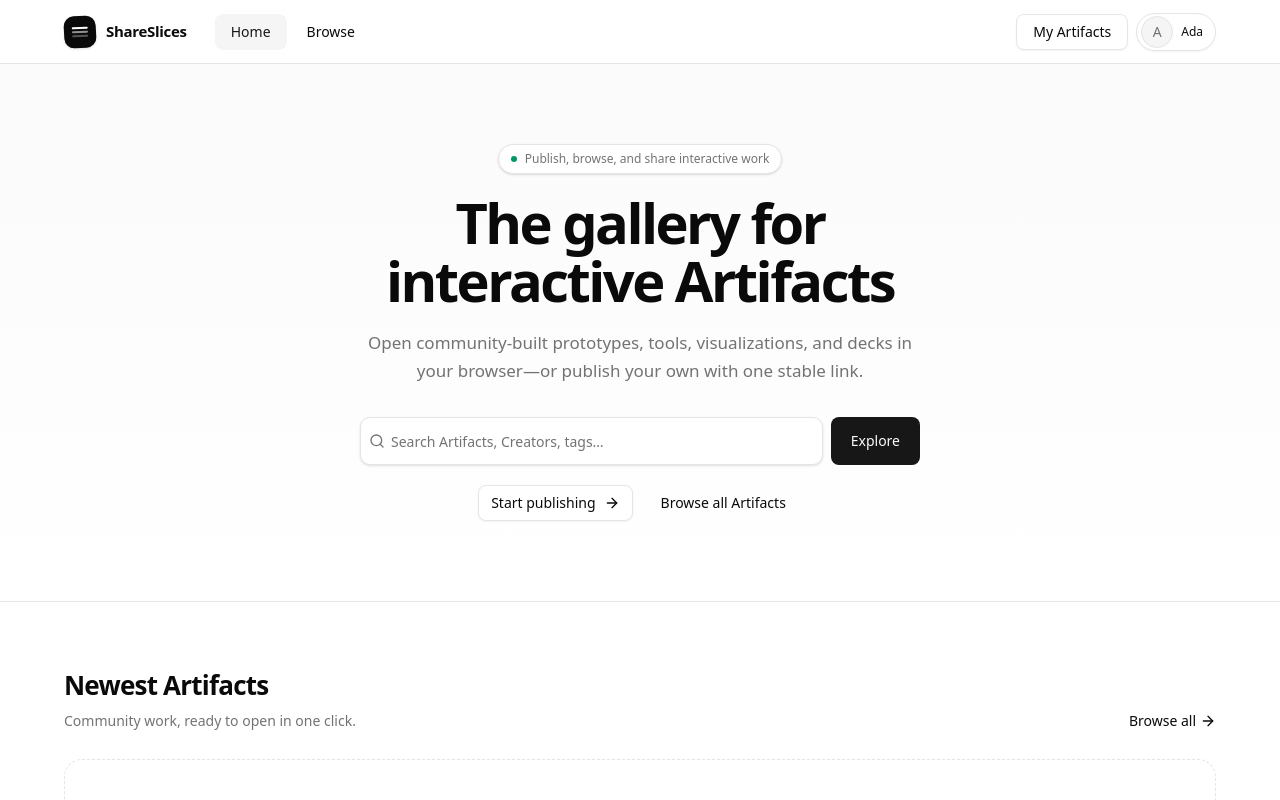
public Website routing › keeps Website in place after sign out
Click the button with aria-label "Open account menu": [1176, 32] box [1136,12,1216,50]
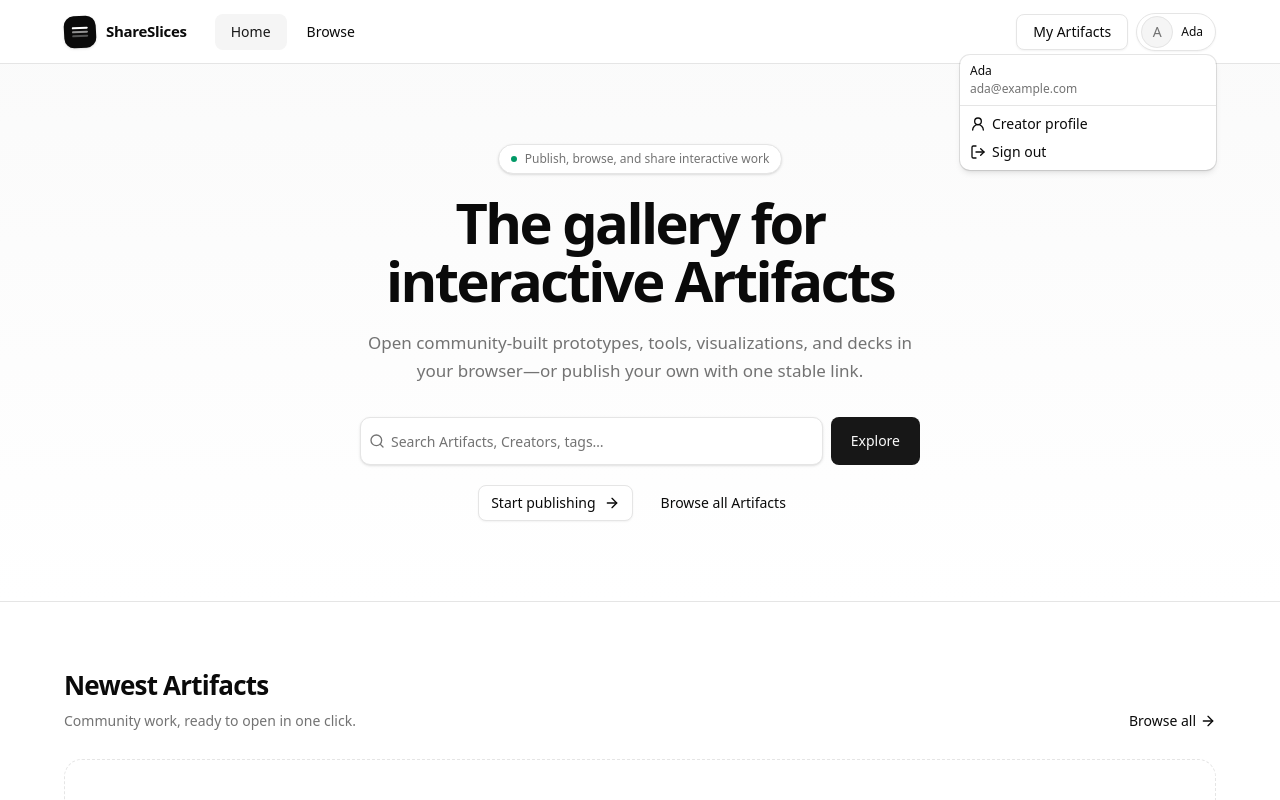
Click the menu item "Sign out": [1008, 152] box [970,142,1046,161]
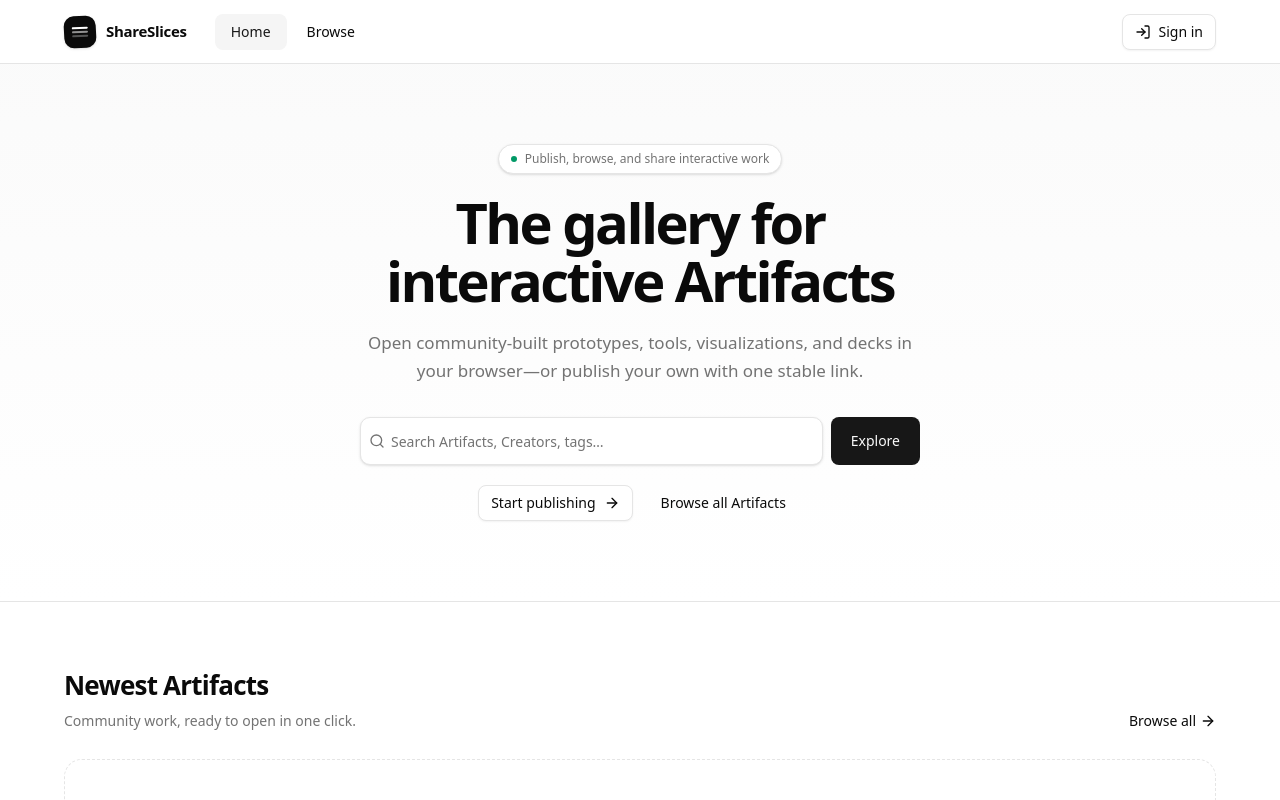
Expected: the heading "The gallery for interactive Artifacts" is shown, [386,184,894,318]
Now the link "Sign in" is shown, box [1122,14,1216,50]
